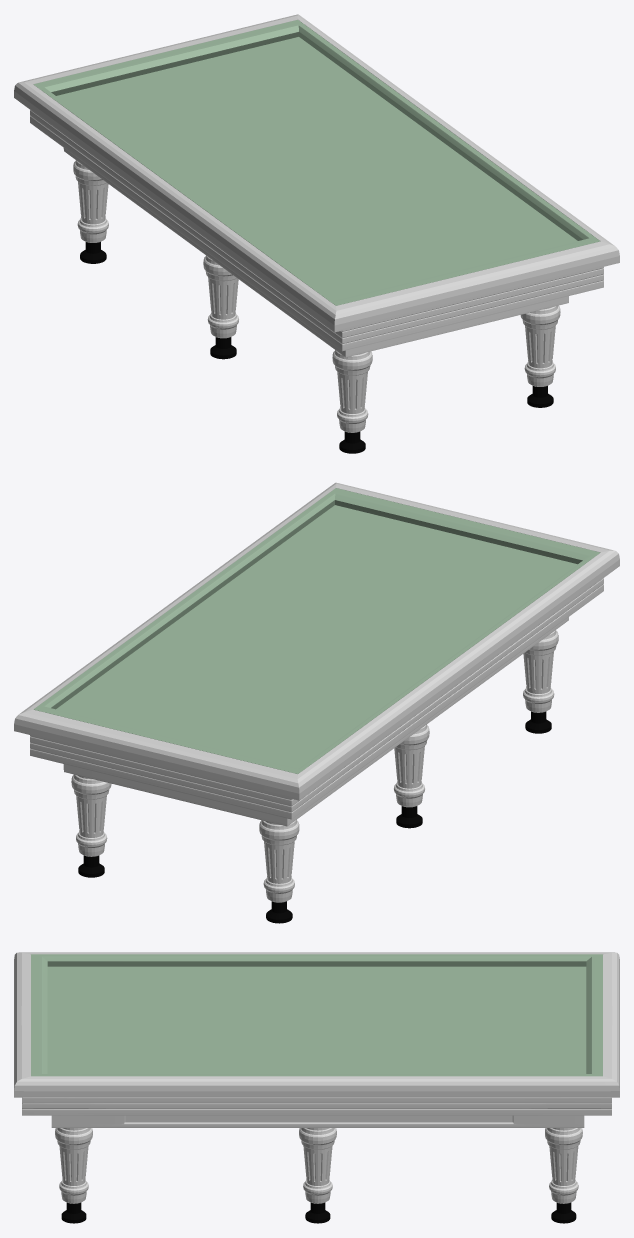
Rendered from PoolTable.fbx.
The picture shows the model from 3 angles, top to bottom: view 1: azimuth 30°, elevation 25°; view 2: azimuth 150°, elevation 25°; view 3: azimuth 270°, elevation 25°; orthographic projection. The views are drawn at different scales.
Visible parts, largest first — view 1: Object001, Default; view 2: Object001, Default; view 3: Object001, Default.
Boxes of the visible parts, <box> form: Object001: <box>33,20,600,305</box>; Default: <box>14,14,619,453</box>; Object001: <box>33,488,600,773</box>; Default: <box>14,482,619,923</box>; Object001: <box>31,954,602,1076</box>; Default: <box>14,952,619,1223</box>.
Size of the model in its own units: 20.09 by 11.33 by 39.08.
